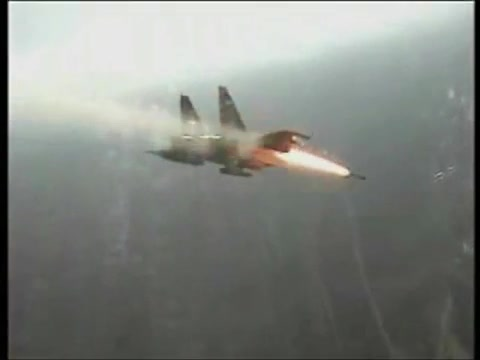aeroplane: (145, 86, 312, 179)
